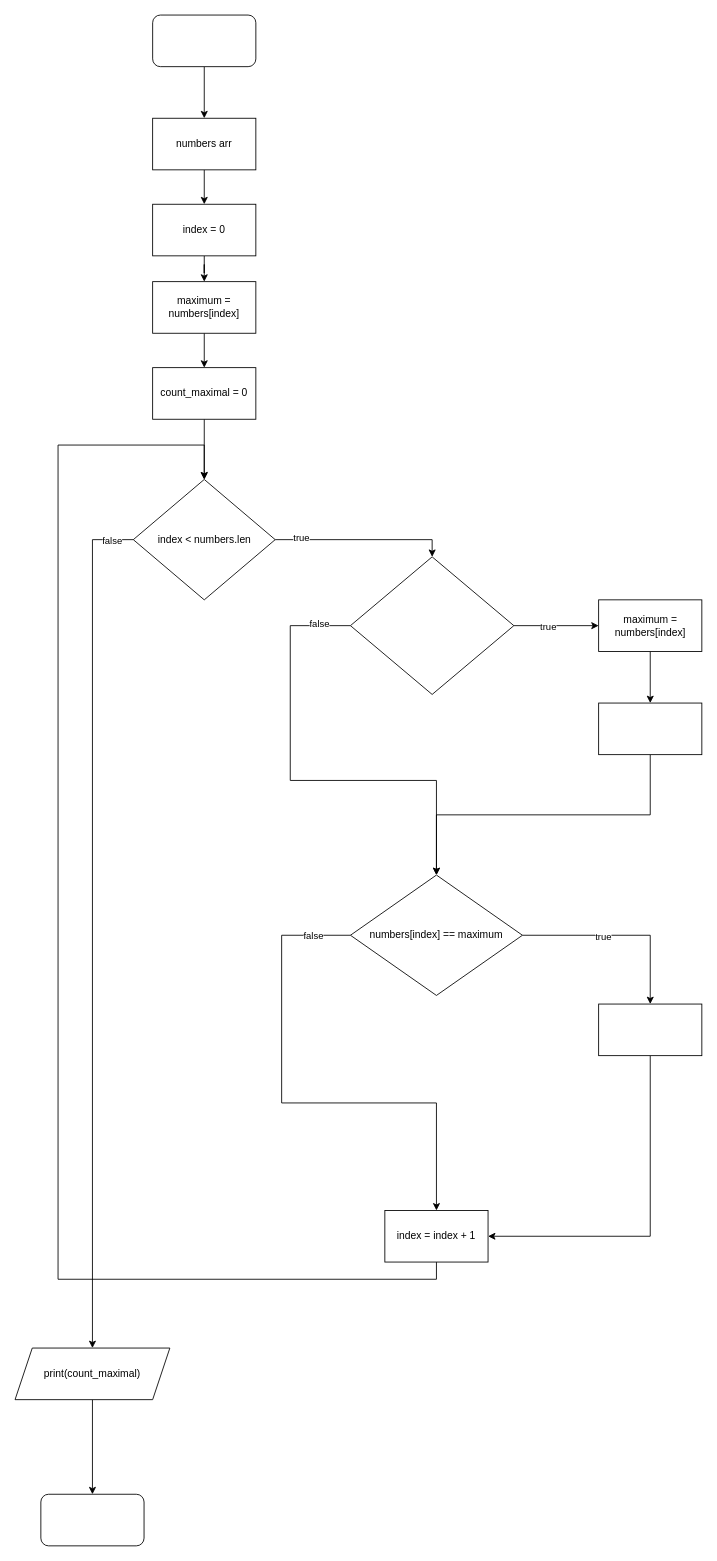
Image size: 717x1561. Some labels were removed from this diagram. The shapes that lost their labels are listed below. From the top down, each one's centre as x and y in pixels, then its label:
pixel 204 40: main
pixel 432 625: numbers[index] > maximum
pixel 650 728: count_maximal = 1
pixel 650 1029: count_maximal = count_maximal + 1
pixel 92 1519: end
